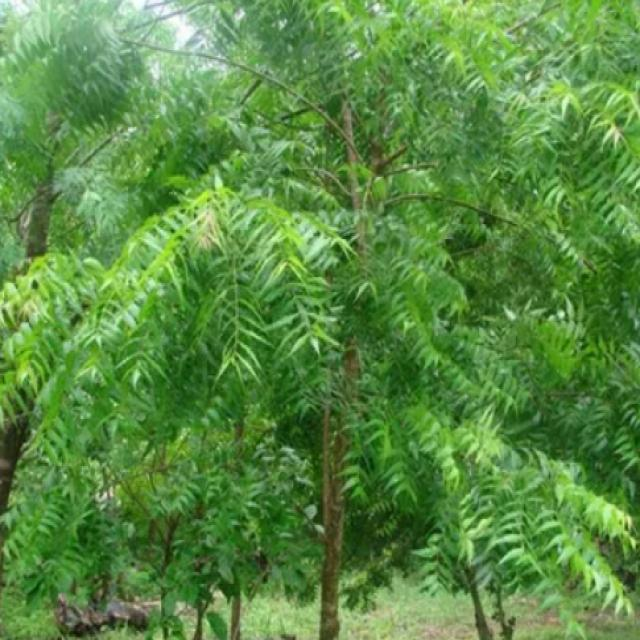Neem-Tree: (43, 41, 629, 620)
